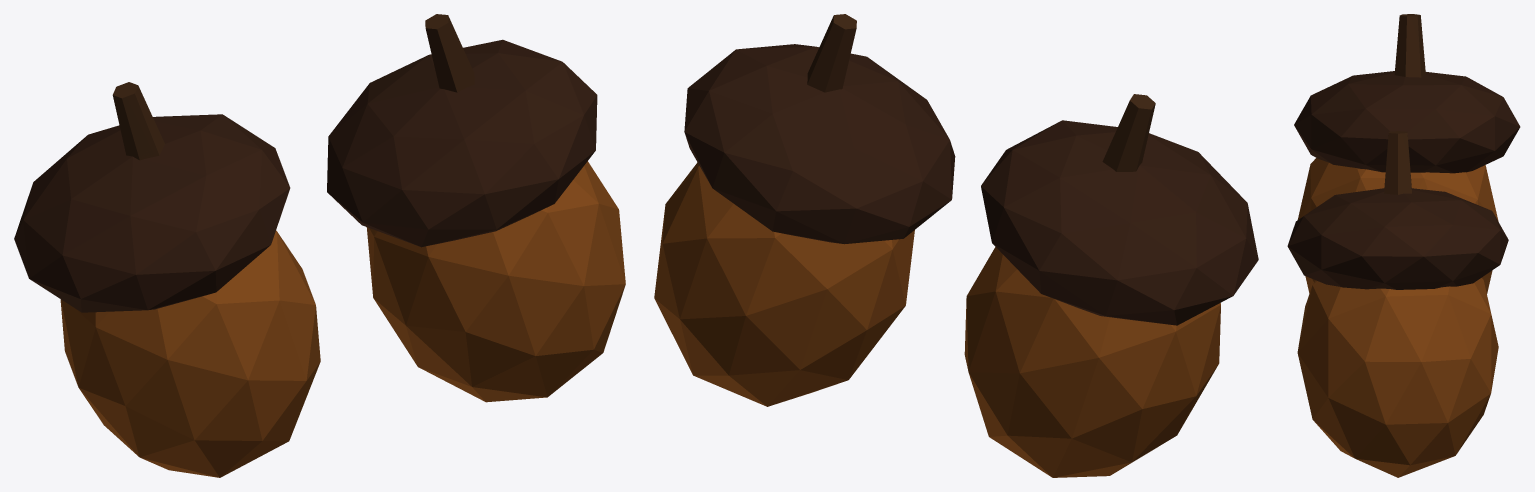
File: pile-treeSeed-2.obj
The picture shows the model from 3 angles, left to right: view 1: azimuth 30°, elevation 25°; view 2: azimuth 150°, elevation 25°; view 3: azimuth 270°, elevation 25°; orthographic projection. The views are drawn at different scales.
Parts seen in each view (by area): view 1: pile-treeSeed-2; view 2: pile-treeSeed-2; view 3: pile-treeSeed-2.
Boxes of the visible parts, x1,y1,x2,y2 form: pile-treeSeed-2: (14,14,625,477); pile-treeSeed-2: (654,14,1258,477); pile-treeSeed-2: (1287,14,1520,477).
Bounding box in the file's own units: 0.5039 × 0.3302 × 0.2257.
1 material, 1 textured.
